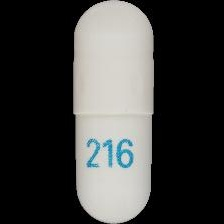67877-222: (0, 0, 224, 224)
